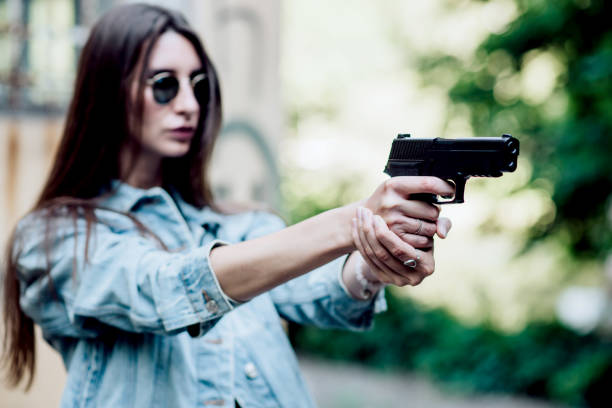gun: (384, 130, 521, 206)
